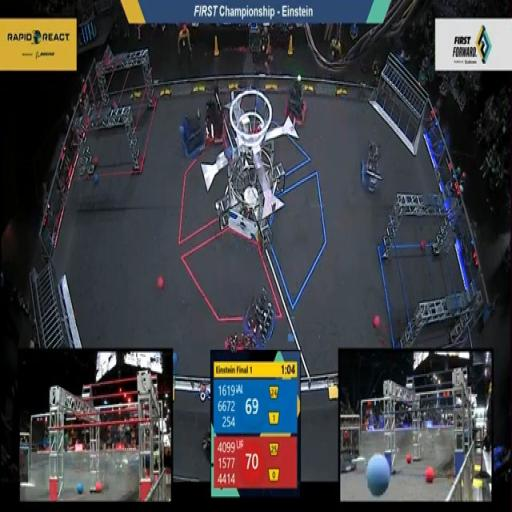robot: (244, 284, 280, 348), (281, 71, 312, 130), (358, 138, 386, 202), (178, 110, 208, 164), (200, 96, 230, 149), (222, 327, 255, 363)
